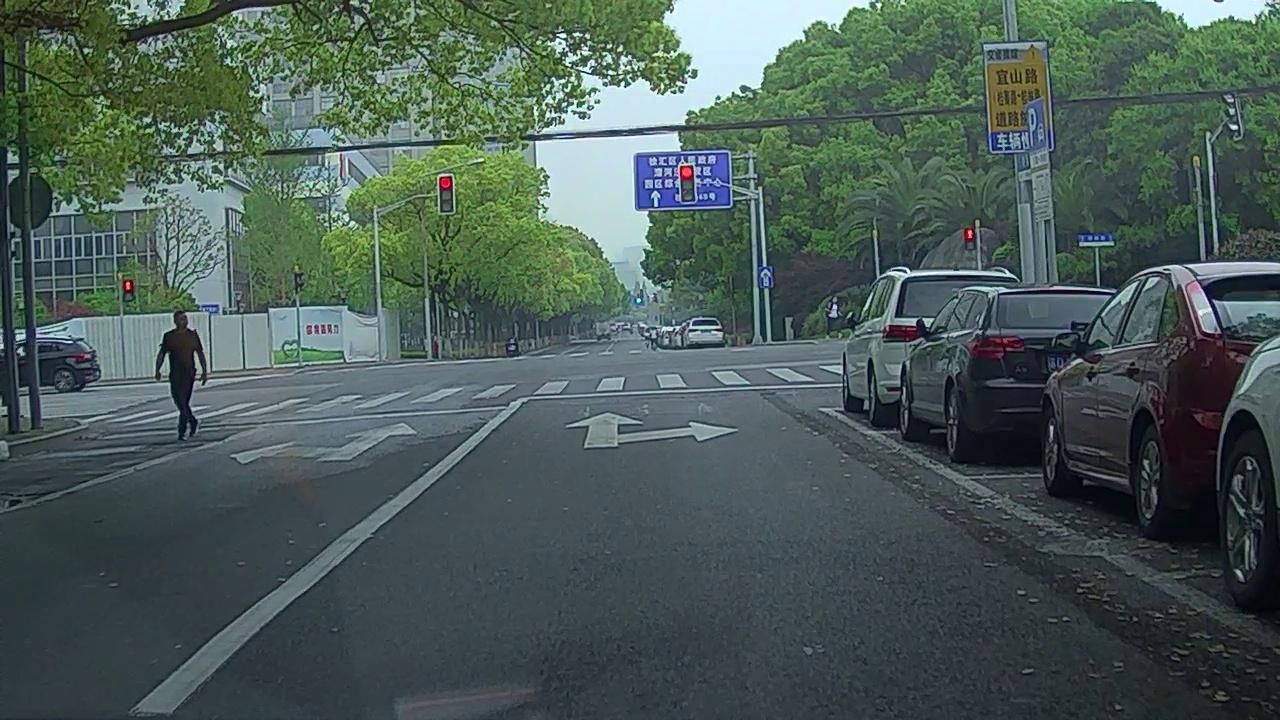traffic_light: (438, 176, 454, 213), (679, 166, 694, 202)
